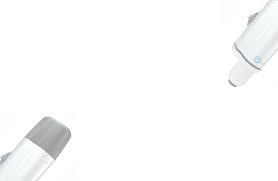screwdriver: (0, 116, 70, 180), (227, 0, 277, 86)
